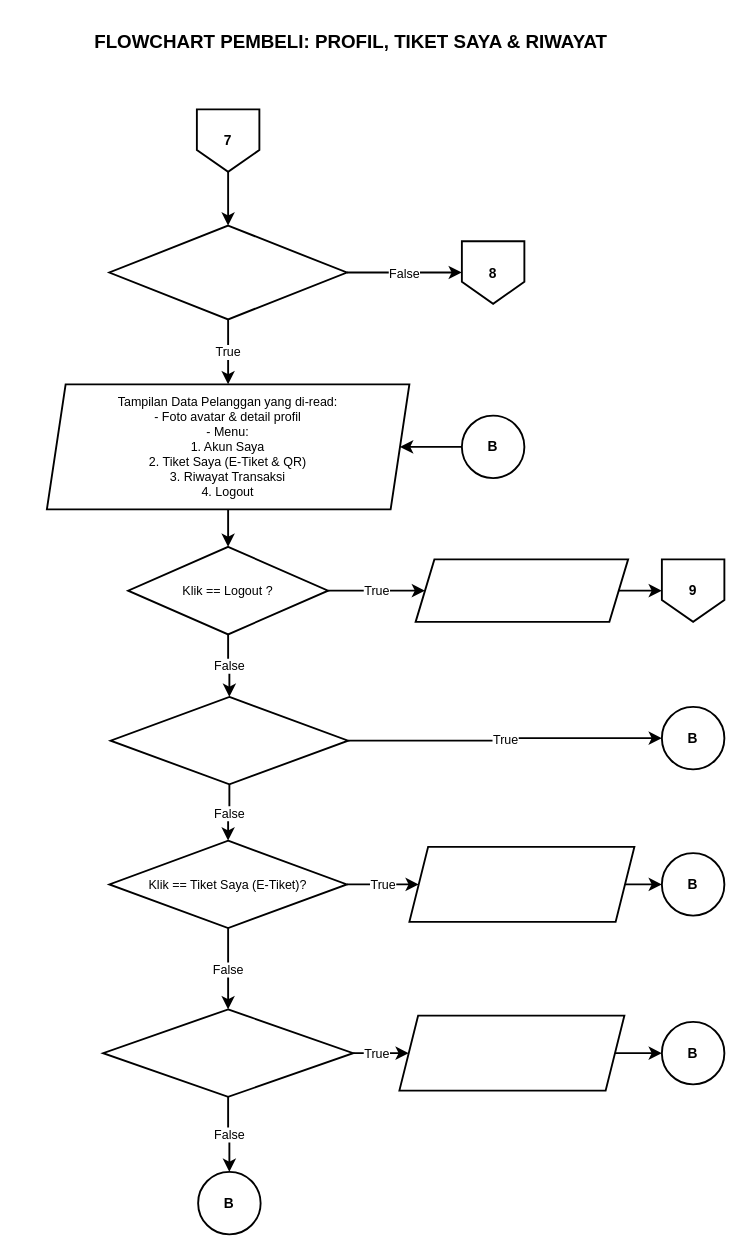
This 746x1256 diagram has some shape labels left out. Here are the shapes that lost their labels. From the top down, the centre of each, then its label:
At (227,272): "Klik == icon profile atau Tiket Saya ?".
At (521,590): "Session login pembeli dihapus (Token revoked)".
At (228,740): "Klik == akun saya / edit profil?".
At (521,883): "Tampilan Kartu E-Tiket, QR Code ZXing & Download PDF".
At (228,1052): "Klik == Riwayat Pemesanan?".
At (511,1052): "Tampilan Riwayat pemesanan data pembeli yang lunas / selesai".
